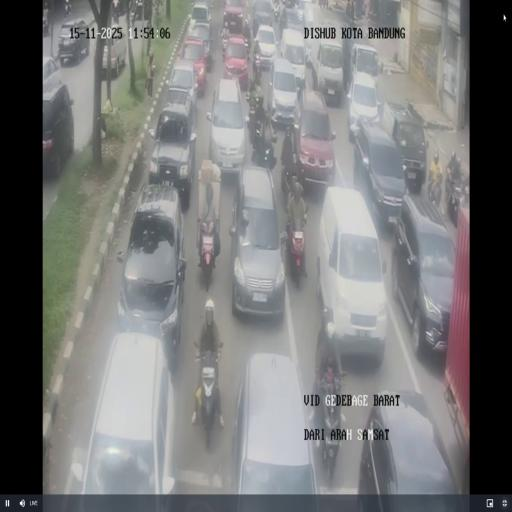car: (64, 328, 180, 506), (230, 354, 317, 508), (116, 184, 187, 358), (358, 392, 462, 508), (318, 187, 386, 362), (392, 199, 455, 358), (230, 163, 286, 317), (148, 98, 196, 202), (294, 89, 336, 191), (208, 75, 247, 176), (383, 103, 428, 190), (43, 60, 76, 177), (348, 74, 380, 143), (312, 38, 344, 105), (178, 36, 210, 94), (278, 27, 306, 85), (99, 20, 127, 78), (58, 17, 91, 66), (351, 43, 379, 84), (222, 0, 246, 34), (189, 1, 212, 35), (252, 0, 272, 27), (296, 0, 314, 24)
truck: (313, 369, 346, 479), (194, 347, 224, 448), (283, 204, 309, 288), (196, 208, 220, 290), (446, 169, 465, 225), (280, 153, 298, 204), (247, 95, 264, 146), (427, 168, 443, 210), (258, 139, 278, 171), (295, 159, 306, 201), (252, 52, 262, 85), (220, 27, 230, 57), (265, 100, 275, 130), (243, 16, 252, 48), (111, 0, 122, 23), (130, 1, 138, 24), (346, 0, 354, 22), (280, 1, 287, 26), (272, 0, 280, 21), (42, 14, 49, 37), (63, 2, 72, 19), (318, 0, 328, 9)
